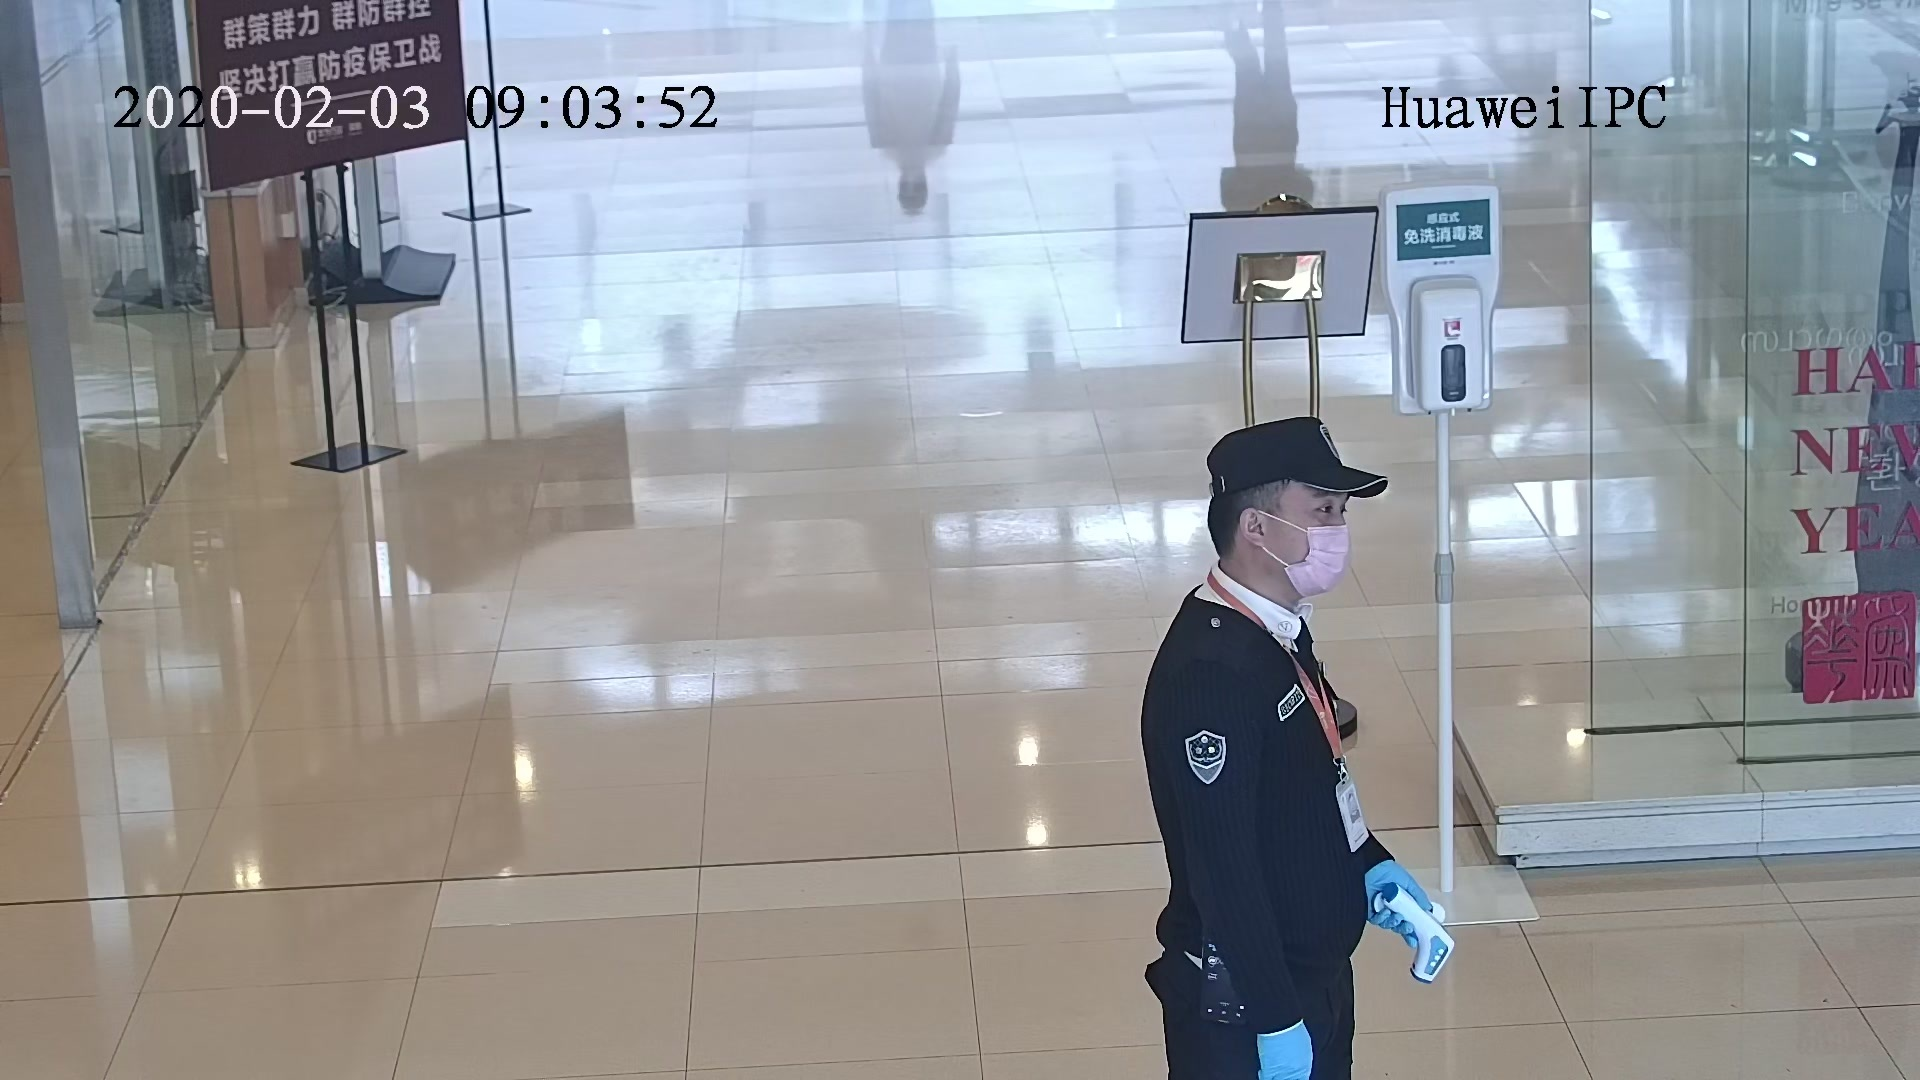face: (1276, 483, 1361, 595)
mask: (1280, 527, 1358, 607)
person: (1141, 416, 1377, 730)
